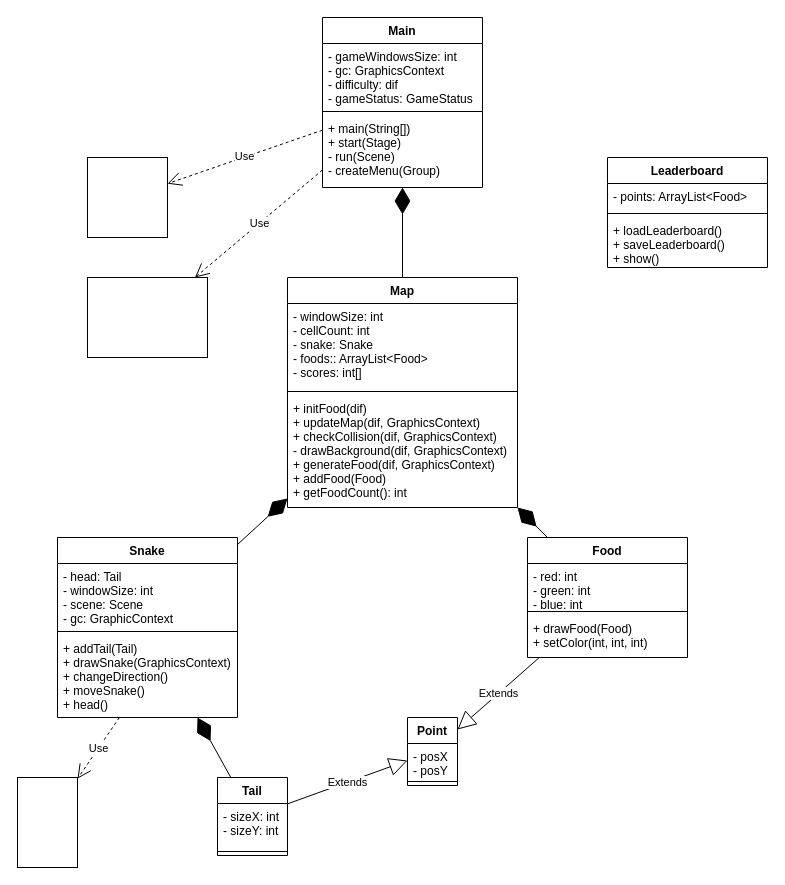
The diagram is 785 pixels wide and 885 high, and some of its shapes have lost their labels. Here are the shapes that lost their labels. From the top down, the centre of each, then its label:
the point at 127,197: dif: enum EASY MEDIUM HARD
the point at 147,317: GameState: enum GAME NEWGAME LEADERBOARD
the point at 47,822: dir: enum LEFT RIGHT UP DOWN
